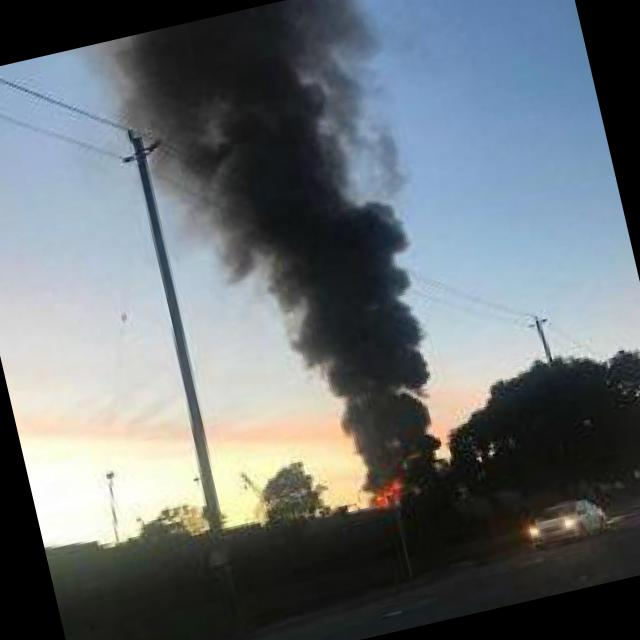fire: (358, 468, 417, 512)
smoke: (102, 0, 484, 511)
